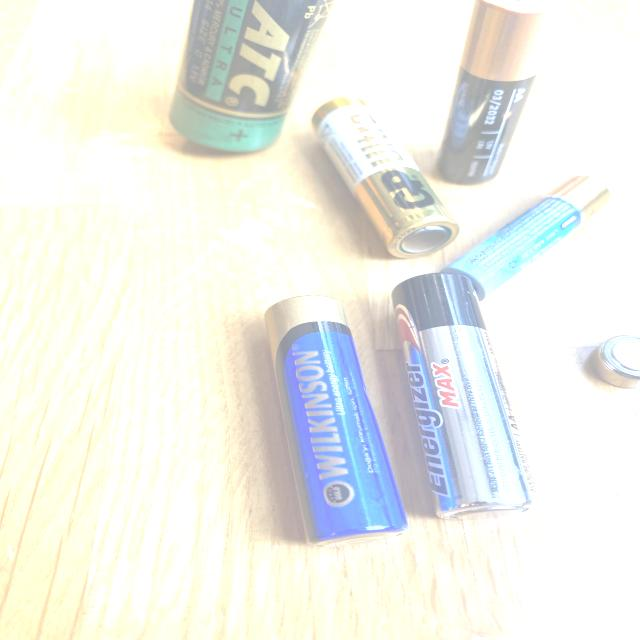AA: (258, 291, 414, 549), (389, 268, 540, 524), (309, 96, 462, 261)
AAA: (440, 173, 613, 304)
